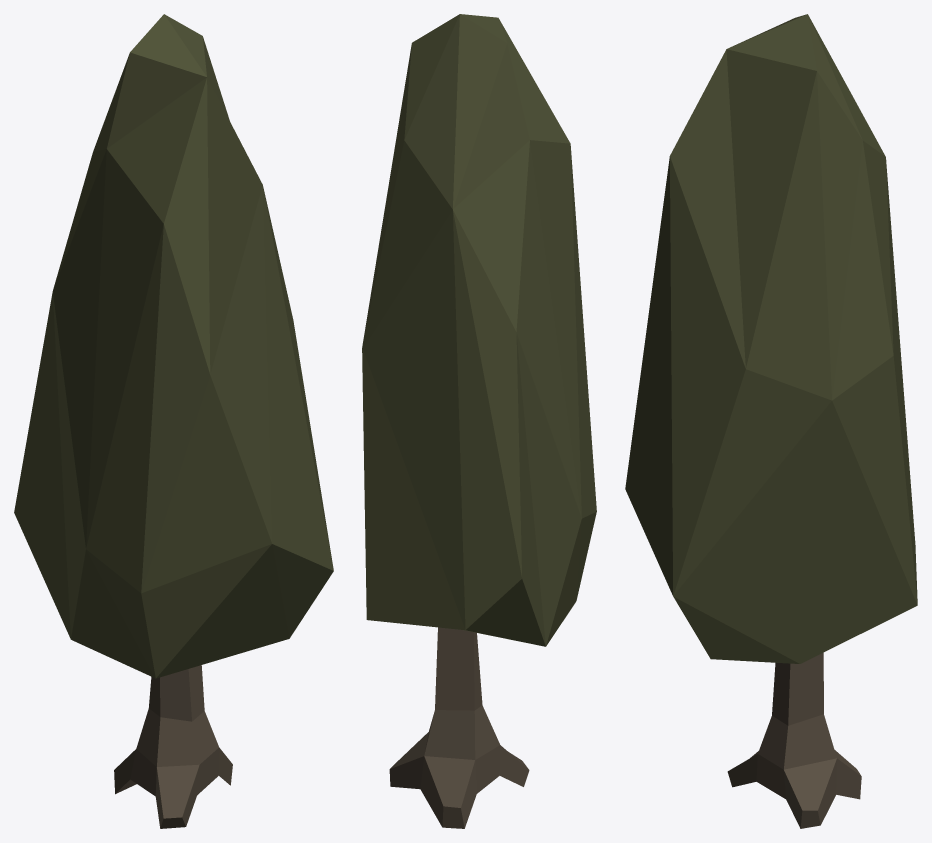
Rendered from env_tree_thin2.gltf.
The picture shows the model from 3 angles, left to right: view 1: azimuth 30°, elevation 25°; view 2: azimuth 150°, elevation 25°; view 3: azimuth 270°, elevation 25°; orthographic projection.
Parts seen in each view (by area): view 1: env_tree_thin2; view 2: env_tree_thin2; view 3: env_tree_thin2.
Part boxes in pixels (box(x1,y1,x2,y2)): env_tree_thin2: box(14, 14, 333, 828); env_tree_thin2: box(362, 14, 596, 828); env_tree_thin2: box(625, 14, 917, 828).
Size of the model in its own units: 1.33 by 4.83 by 1.62.
Materials: 1 (1 with a texture image).
